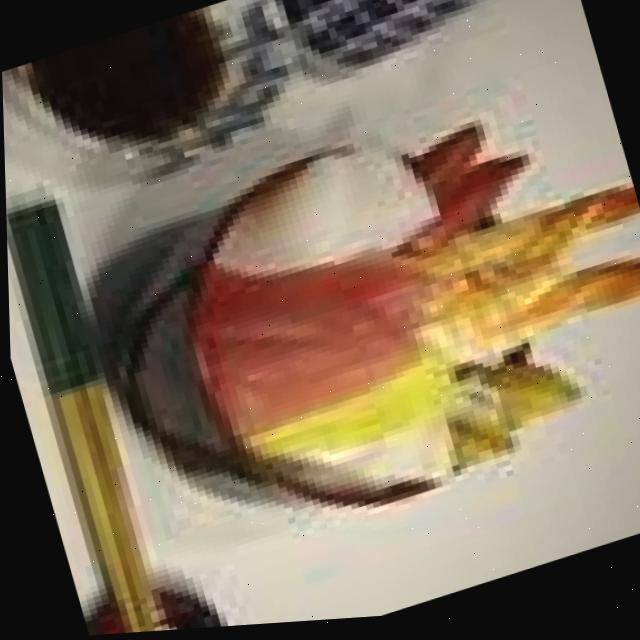刺身生食: (80, 69, 640, 585)
